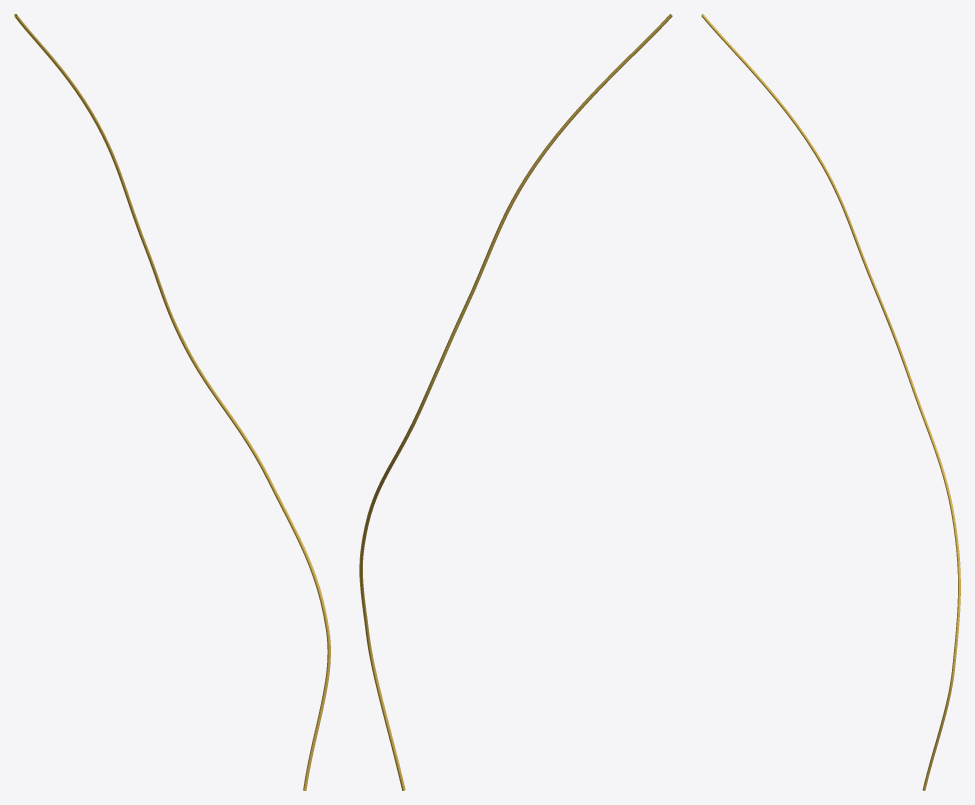
Rendered from Radial_nerve_left.glb.
The picture shows the model from 3 angles, left to right: view 1: azimuth 30°, elevation 25°; view 2: azimuth 150°, elevation 25°; view 3: azimuth 330°, elevation 25°; orthographic projection. The views are drawn at different scales.
Visible parts, largest first — view 1: Radial_nerve.l_BezierCurve.472; view 2: Radial_nerve.l_BezierCurve.472; view 3: Radial_nerve.l_BezierCurve.472.
Boxes of the visible parts, bbox=[...] form: Radial_nerve.l_BezierCurve.472: bbox=[14, 14, 330, 790]; Radial_nerve.l_BezierCurve.472: bbox=[359, 14, 672, 790]; Radial_nerve.l_BezierCurve.472: bbox=[701, 14, 960, 790].
Size of the model in its own units: 0.1011 by 0.2625 by 0.0313.
